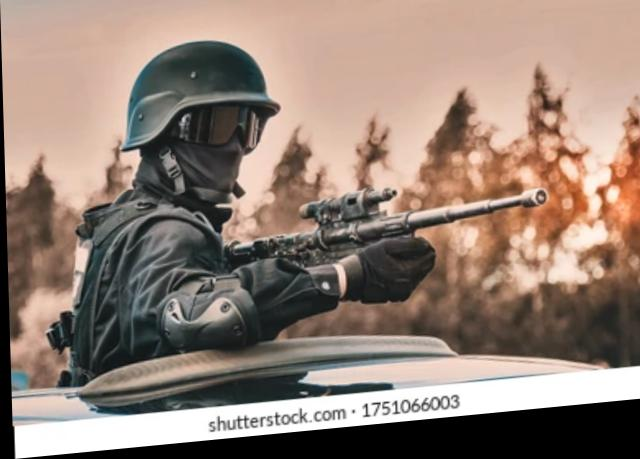other: (58, 24, 301, 398)
